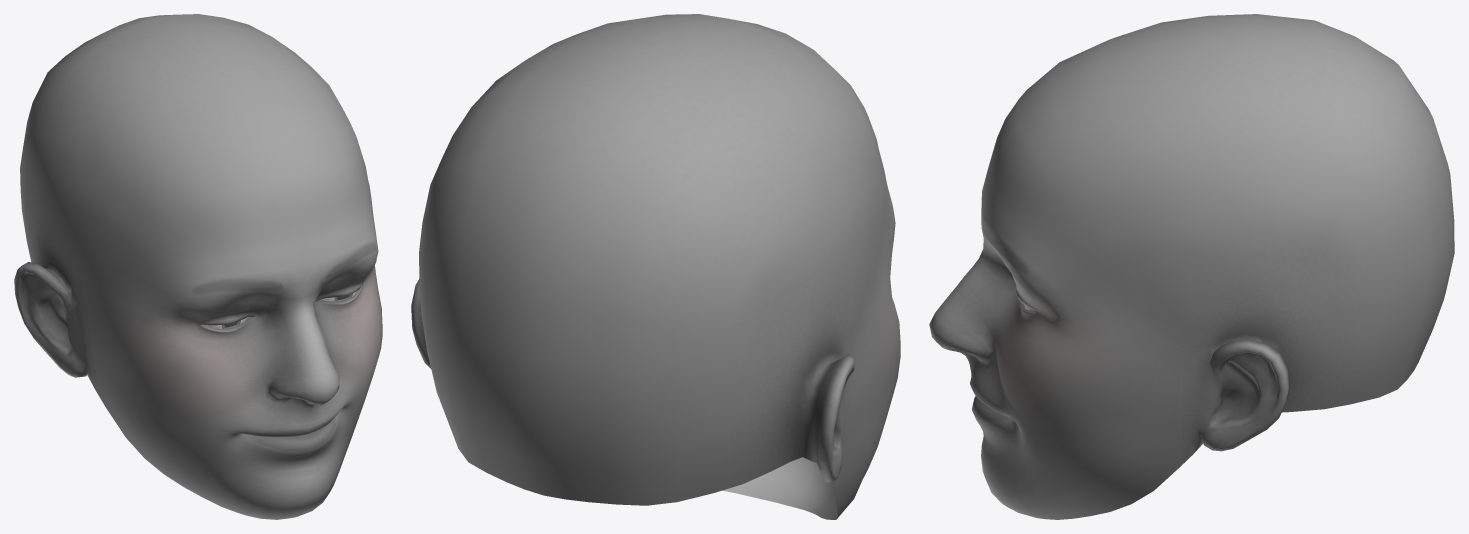
3 views of the same model, side by side, from view 1: azimuth 30°, elevation 25°; view 2: azimuth 150°, elevation 25°; view 3: azimuth 270°, elevation 25° (orthographic). The views are drawn at different scales.
Parts seen in each view (by area): view 1: head; view 2: head; view 3: head.
Part boxes in pixels (x1,y1,x2,y2): head: (14,14,382,519); head: (411,14,900,519); head: (929,14,1454,519).
Size of the model in its own units: 19.03 by 23.34 by 23.55.
1 material, 1 textured.
